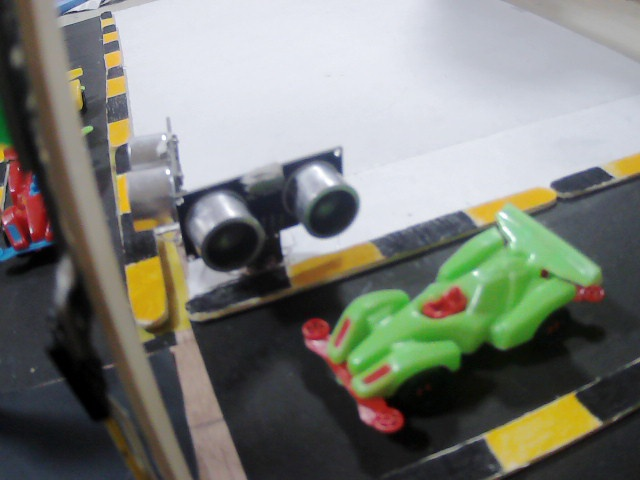car: (303, 204, 621, 434), (1, 143, 61, 255), (67, 59, 89, 118)
uno_breadboard: (170, 151, 371, 264), (114, 125, 190, 247)
